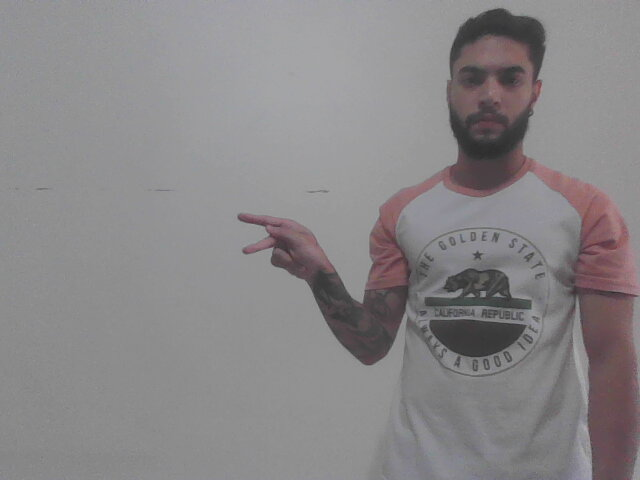p: (233, 205, 343, 289)
